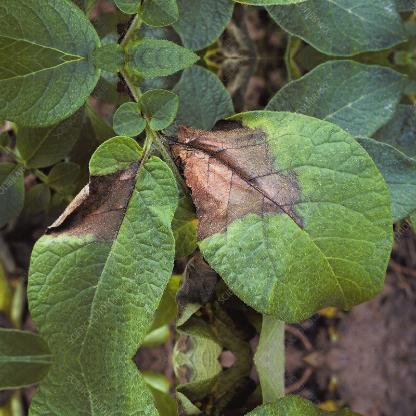Early-Blight: (166, 107, 320, 248), (34, 122, 156, 247), (155, 242, 257, 358), (155, 358, 257, 416)
